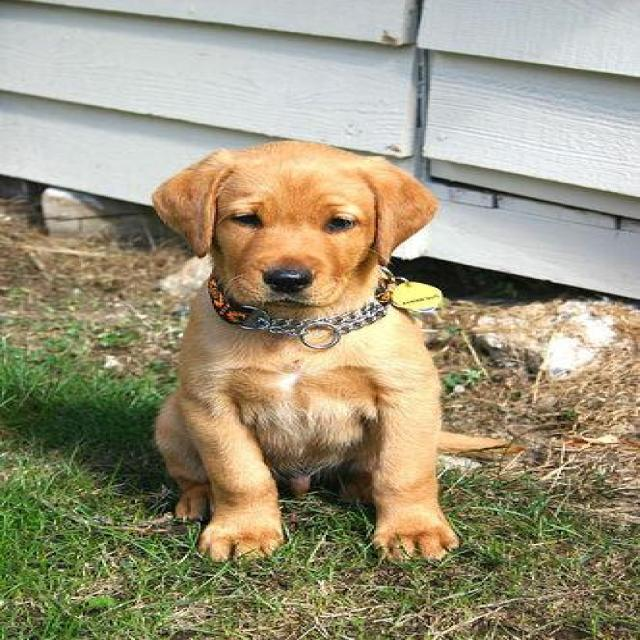sitting: (135, 134, 525, 565)
